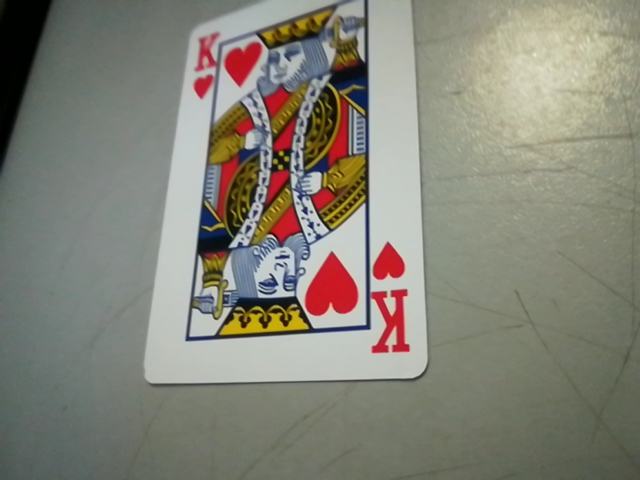hx k: (362, 234, 422, 367)
